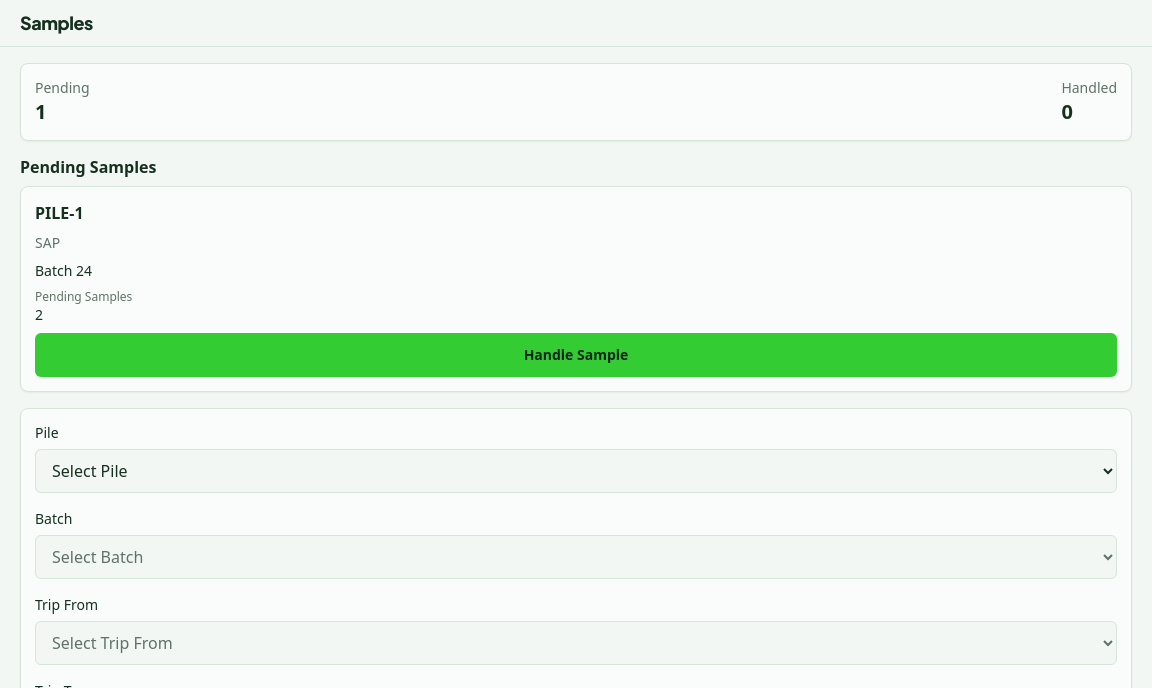
SampleHandlingPage › R. double-submit generates one id and issues one store write
Select "PILE-1" in the dropdown labelled "Pile" at [576, 471], box [35,449,1117,493]
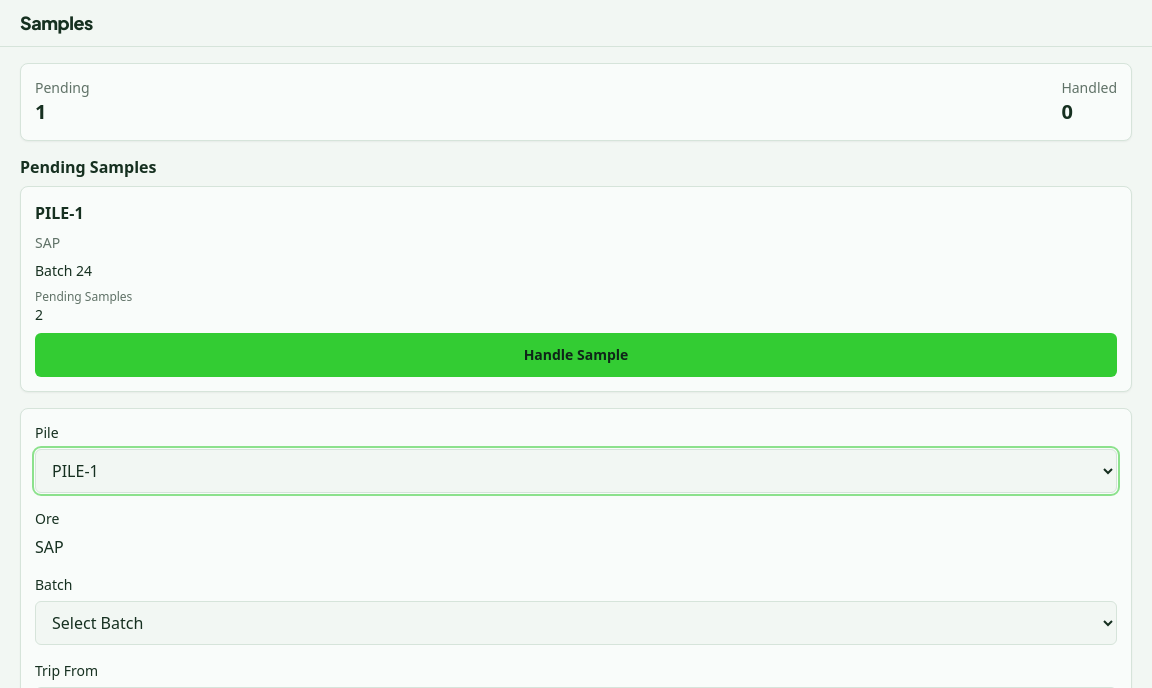
Select "24" in the dropdown labelled "Batch" at [576, 623], box [35,601,1117,645]
(page scrolled)
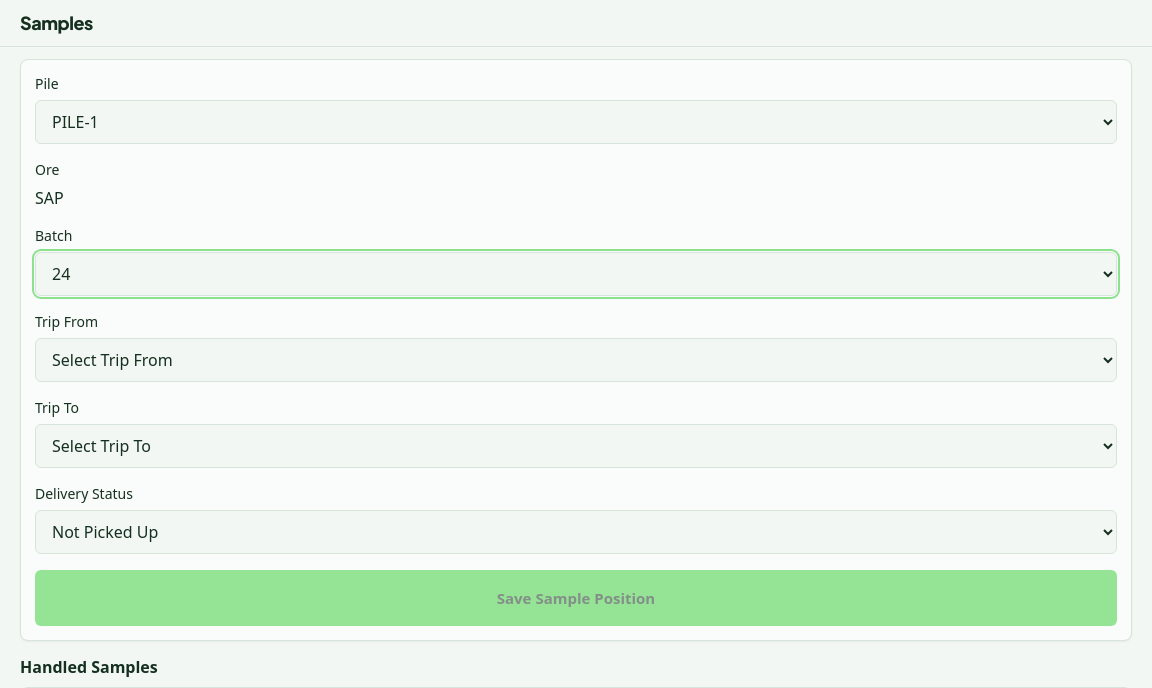
Select "2" in the dropdown labelled "Trip From" at [576, 360], box [35,338,1117,382]
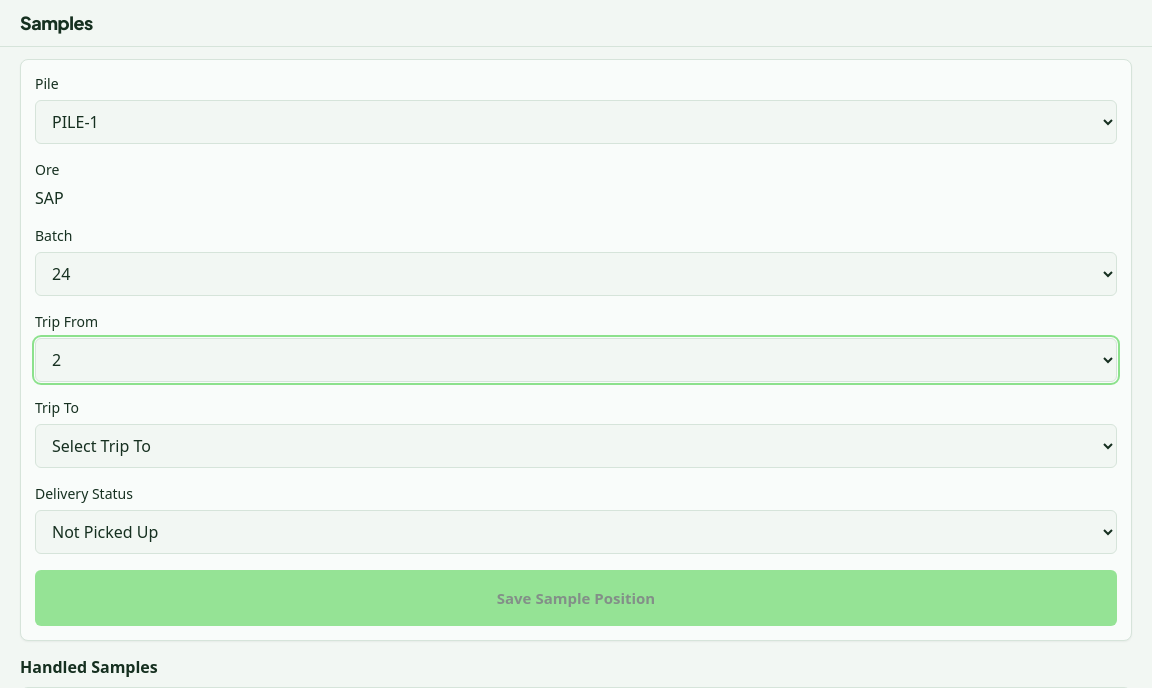
Select "2" in the dropdown labelled "Trip To" at [576, 446], box [35,424,1117,468]
(page scrolled)
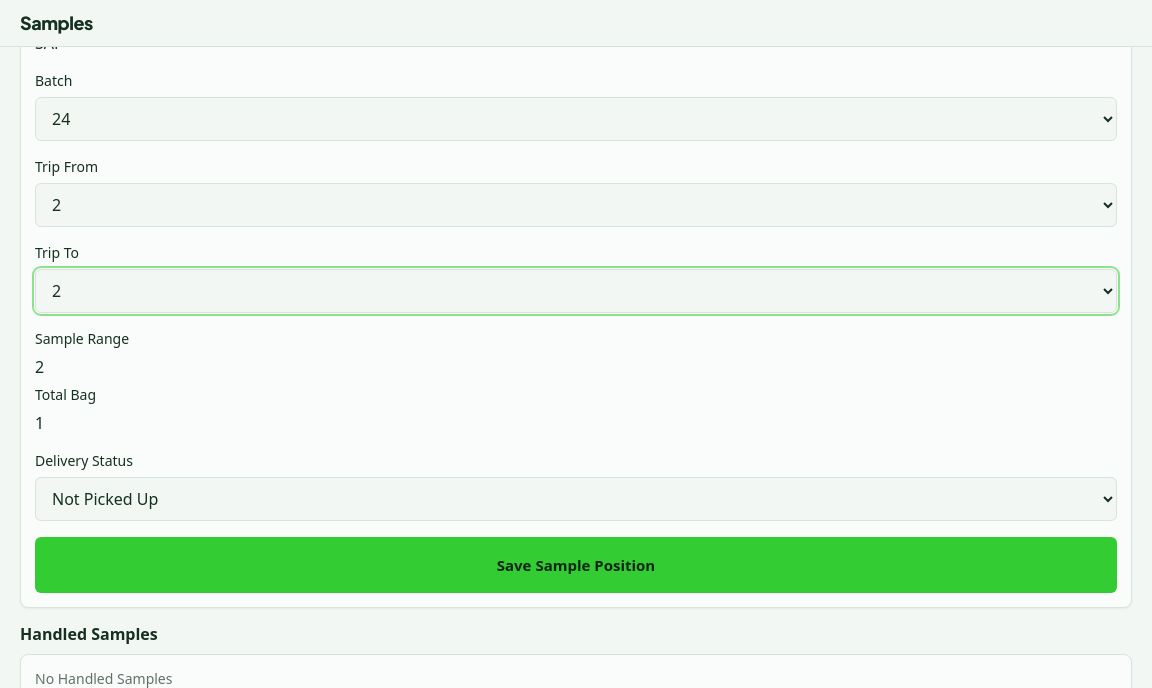
Click the button "Save Sample Position" at [576, 565], box [35,537,1117,593]
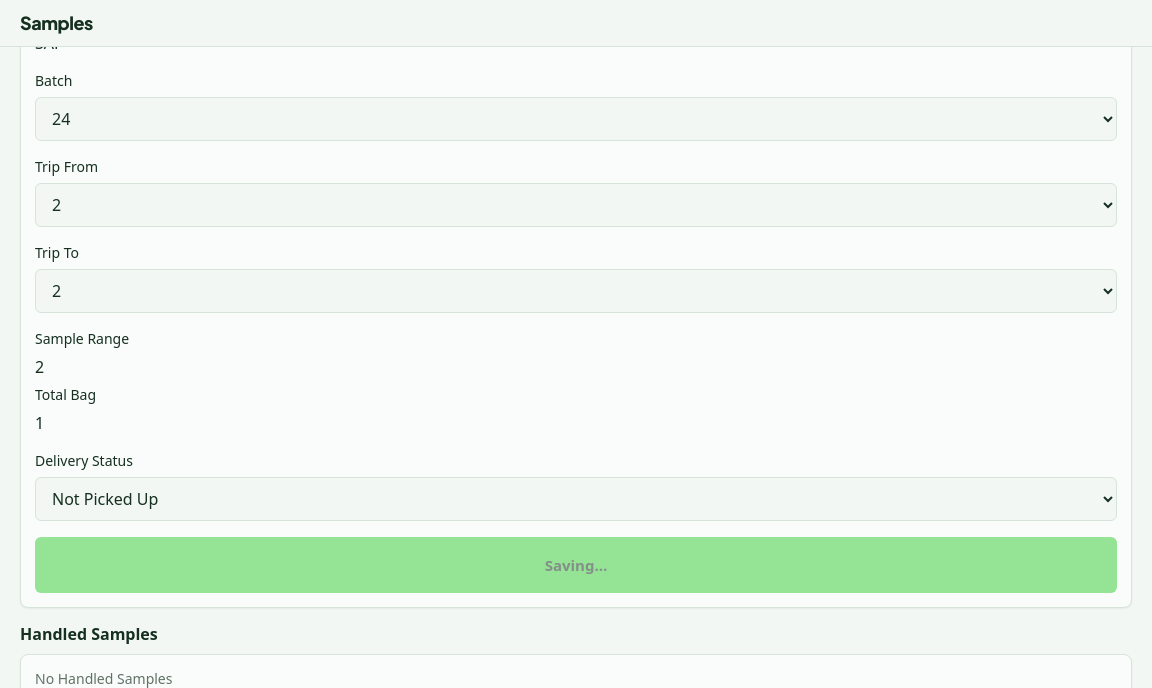
Click the button "Saving…" at [576, 565], box [35,537,1117,593]
(page scrolled)
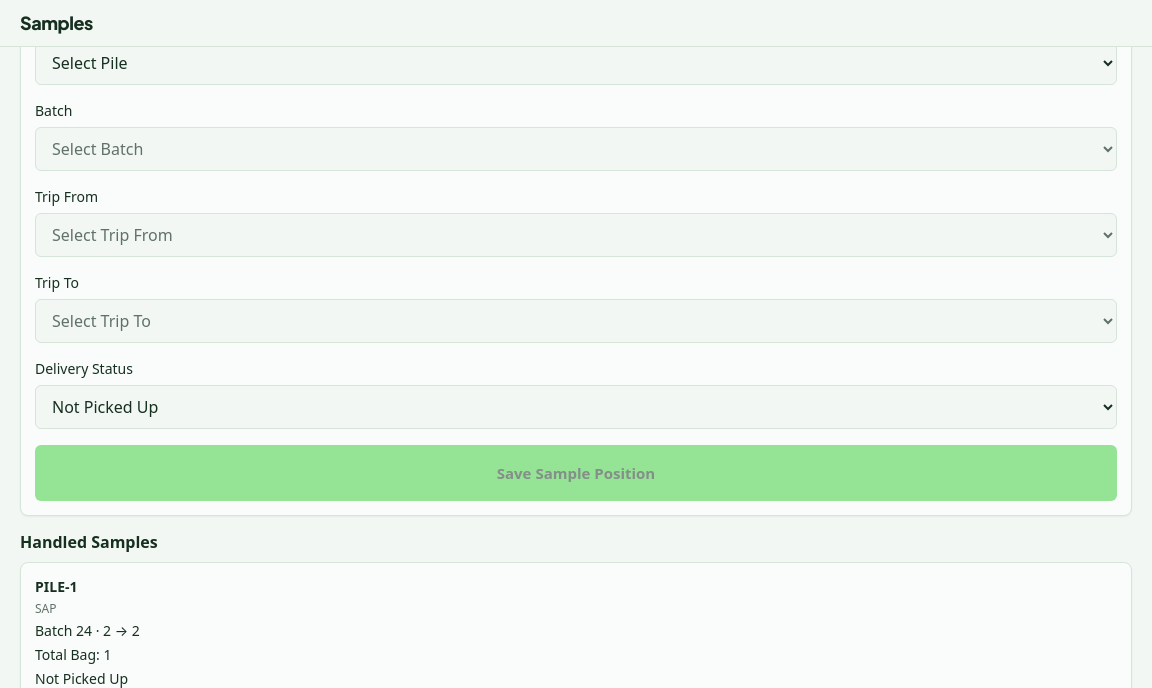
Expected: the button "Saving…" is gone
